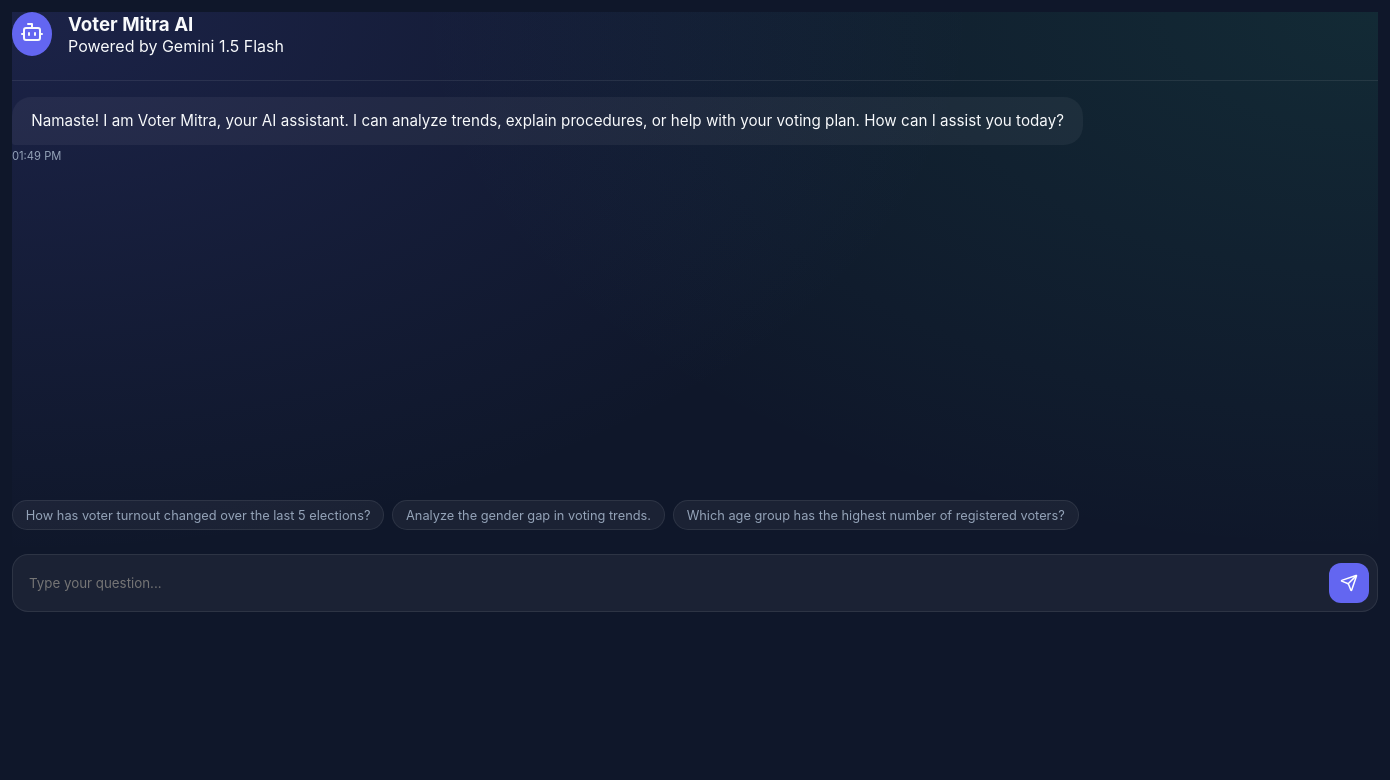
Test case: ChatAssistant Component › sends a message and displays the AI response
Type "How do I vote?" into the field with placeholder "Type your question..." at (669, 583), box [21,563,1317,603]
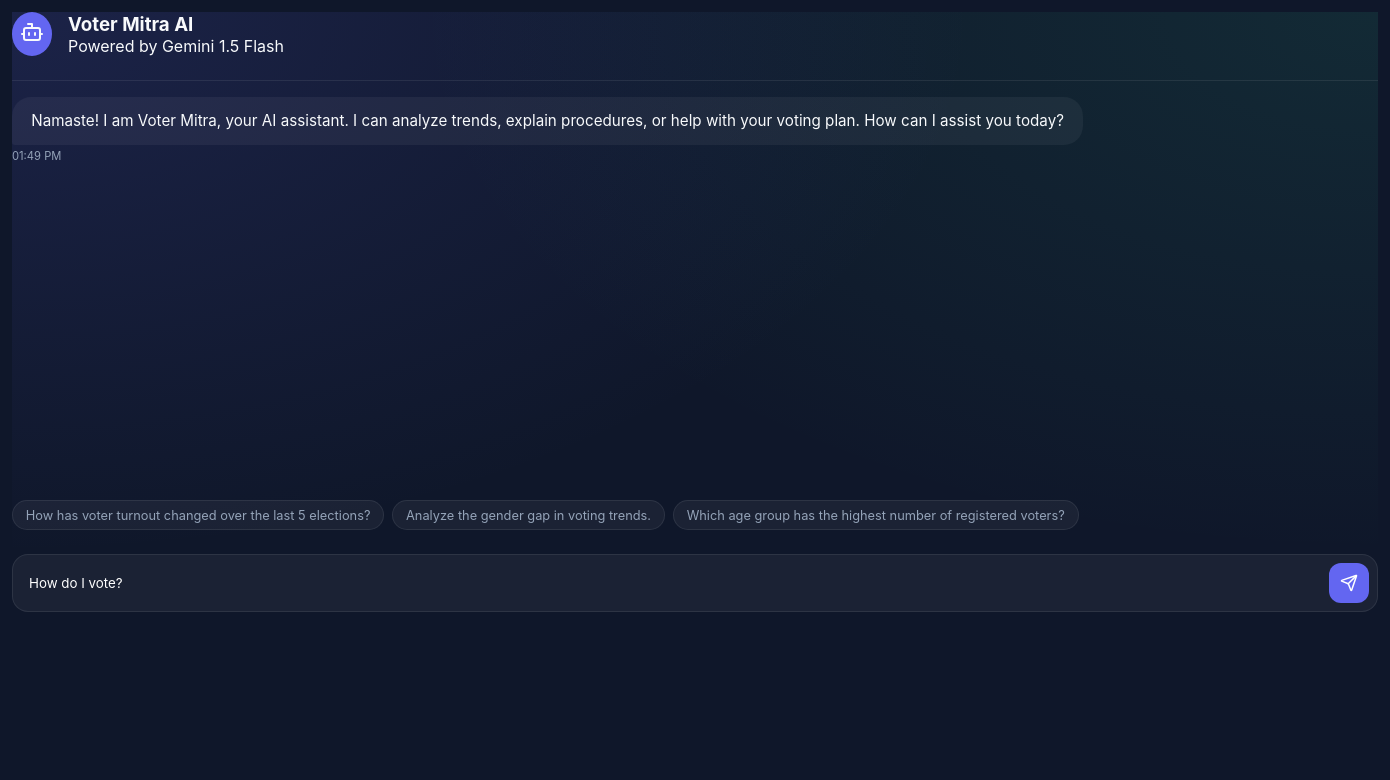
Click the button named "Send message" at (1349, 583), box [1329,563,1369,603]
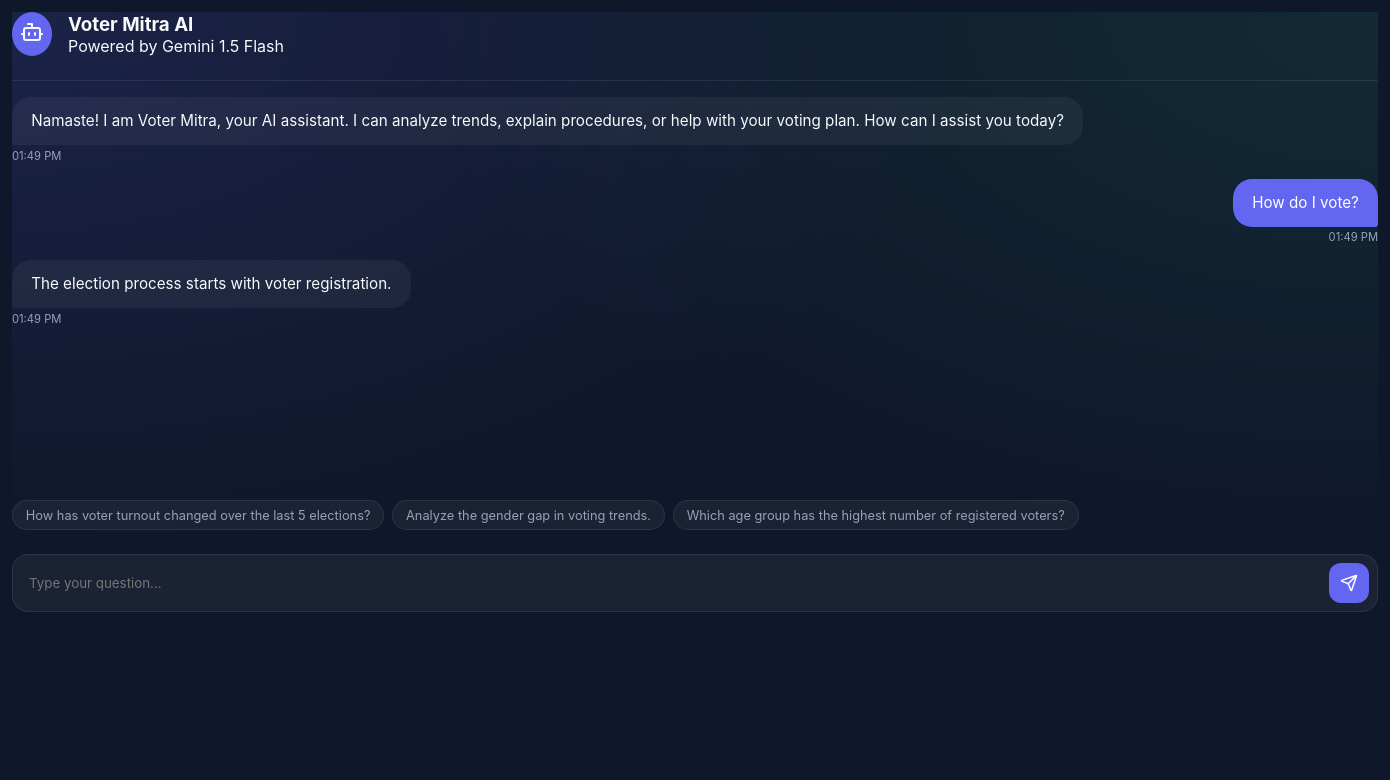
Now the text "How do I vote?" is shown, box [1233,179,1378,227]
Now the text "The election process starts with voter registration." is shown, box [12,260,411,309]
